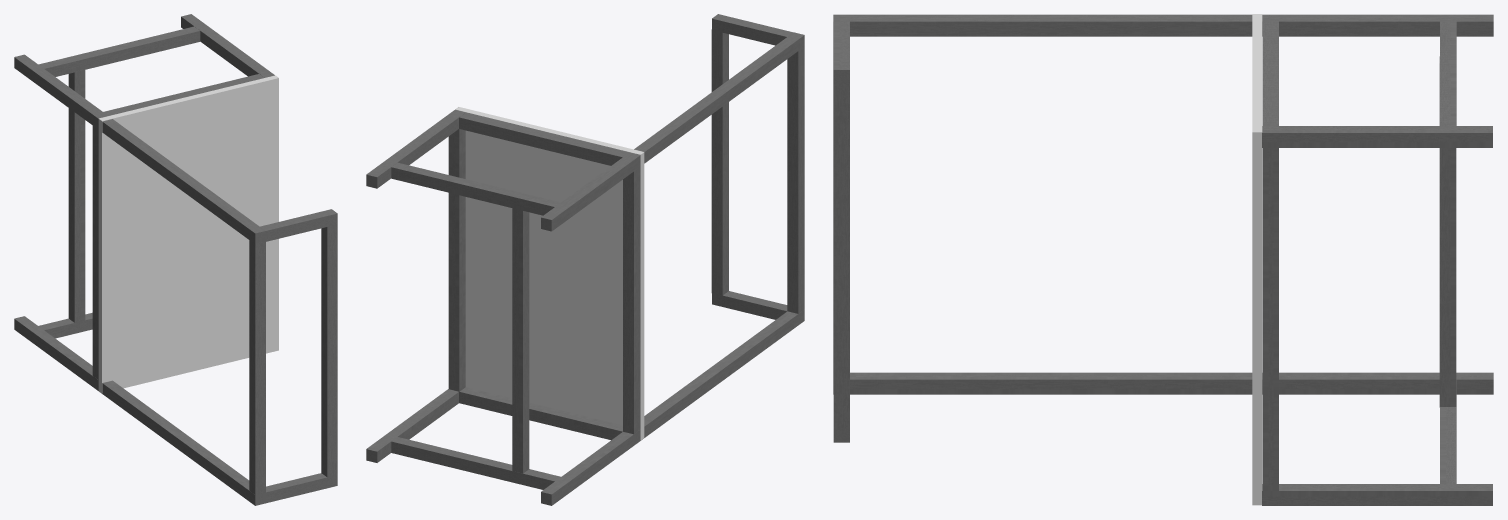
File: Handarbeitsplatz.obj
3 views of the same model, side by side, from view 1: azimuth 30°, elevation 25°; view 2: azimuth 150°, elevation 25°; view 3: azimuth 270°, elevation 25° (orthographic). The views are drawn at different scales.
Parts seen in each view (by area): view 1: TablePlate_Cube.001, 8mm_40X40EL_1_.003_8mm_40X40EL_1_, 8mm_40X40EL_1_.002_8mm_40X40EL_1_, 8mm_40X40EL_1_.011_8mm_40X40EL_1_, 8mm_40X40EL_1_.014_8mm_40X40EL_1_, 8mm_40X40EL_1_.010_8mm_40X40EL_1_, 8mm_40X40EL_1_.006_8mm_40X40EL_1_, 8mm_40X40EL_1_.009_8mm_40X40EL_1_, 8mm_40X40EL_1_.001_8mm_40X40EL_1_, 8mm_40X40EL_1_.012_8mm_40X40EL_1_, 8mm_40X40EL_1_.013_8mm_40X40EL_1_, 8mm_40X40EL_1_.007_8mm_40X40EL_1_ (+1 smaller); view 2: TablePlate_Cube.001, 8mm_40X40EL_1_.003_8mm_40X40EL_1_, 8mm_40X40EL_1_.002_8mm_40X40EL_1_, 8mm_40X40EL_1_.010_8mm_40X40EL_1_, 8mm_40X40EL_1_.009_8mm_40X40EL_1_, 8mm_40X40EL_1_.011_8mm_40X40EL_1_, 8mm_40X40EL_1_.008_8mm_40X40EL_1_, 8mm_40X40EL_1_.014_8mm_40X40EL_1_, 8mm_40X40EL_1_.007_8mm_40X40EL_1_, 8mm_40X40EL_1_.006_8mm_40X40EL_1_, 8mm_40X40EL_1_.004_8mm_40X40EL_1_, 8mm_40X40EL_1_.005_8mm_40X40EL_1_ (+4 smaller); view 3: 8mm_40X40EL_1_.003_8mm_40X40EL_1_, 8mm_40X40EL_1_.002_8mm_40X40EL_1_, 8mm_40X40EL_1_.014_8mm_40X40EL_1_, 8mm_40X40EL_1_.008_8mm_40X40EL_1_, TablePlate_Cube.001, 8mm_40X40EL_1_.001_8mm_40X40EL_1_, 8mm_40X40EL_1_, 8mm_40X40EL_1_.010_8mm_40X40EL_1_, 8mm_40X40EL_1_.006_8mm_40X40EL_1_, 8mm_40X40EL_1_.007_8mm_40X40EL_1_, 8mm_40X40EL_1_.004_8mm_40X40EL_1_, 8mm_40X40EL_1_.012_8mm_40X40EL_1_.
Part boxes in pixels (x1,y1,x2,y2): TablePlate_Cube.001: (98, 75, 278, 393); 8mm_40X40EL_1_.003_8mm_40X40EL_1_: (14, 54, 265, 243); 8mm_40X40EL_1_.002_8mm_40X40EL_1_: (14, 316, 265, 505); 8mm_40X40EL_1_.011_8mm_40X40EL_1_: (249, 240, 265, 495); 8mm_40X40EL_1_.014_8mm_40X40EL_1_: (321, 224, 337, 477); 8mm_40X40EL_1_.010_8mm_40X40EL_1_: (68, 69, 85, 322); 8mm_40X40EL_1_.006_8mm_40X40EL_1_: (38, 26, 200, 76); 8mm_40X40EL_1_.009_8mm_40X40EL_1_: (92, 126, 98, 379); 8mm_40X40EL_1_.001_8mm_40X40EL_1_: (181, 14, 274, 77); 8mm_40X40EL_1_.012_8mm_40X40EL_1_: (260, 209, 337, 241); 8mm_40X40EL_1_.013_8mm_40X40EL_1_: (265, 473, 337, 503); 8mm_40X40EL_1_.007_8mm_40X40EL_1_: (103, 74, 264, 115); TablePlate_Cube.001: (455, 107, 644, 440); 8mm_40X40EL_1_.003_8mm_40X40EL_1_: (541, 32, 804, 231); 8mm_40X40EL_1_.002_8mm_40X40EL_1_: (541, 309, 804, 505); 8mm_40X40EL_1_.010_8mm_40X40EL_1_: (512, 208, 529, 473); 8mm_40X40EL_1_.009_8mm_40X40EL_1_: (623, 167, 640, 434); 8mm_40X40EL_1_.011_8mm_40X40EL_1_: (787, 47, 804, 313); 8mm_40X40EL_1_.008_8mm_40X40EL_1_: (448, 129, 465, 391); 8mm_40X40EL_1_.014_8mm_40X40EL_1_: (711, 29, 728, 295); 8mm_40X40EL_1_.007_8mm_40X40EL_1_: (459, 113, 628, 165); 8mm_40X40EL_1_.006_8mm_40X40EL_1_: (391, 162, 560, 215); 8mm_40X40EL_1_.004_8mm_40X40EL_1_: (391, 437, 560, 489); 8mm_40X40EL_1_.005_8mm_40X40EL_1_: (459, 387, 622, 440); 8mm_40X40EL_1_.003_8mm_40X40EL_1_: (833, 14, 1493, 36); 8mm_40X40EL_1_.002_8mm_40X40EL_1_: (833, 372, 1493, 394); 8mm_40X40EL_1_.014_8mm_40X40EL_1_: (833, 84, 849, 428); 8mm_40X40EL_1_.008_8mm_40X40EL_1_: (1262, 148, 1278, 490); TablePlate_Cube.001: (1252, 14, 1262, 505); 8mm_40X40EL_1_.001_8mm_40X40EL_1_: (1262, 126, 1492, 147); 8mm_40X40EL_1_: (1262, 484, 1492, 505); 8mm_40X40EL_1_.010_8mm_40X40EL_1_: (1439, 56, 1456, 407); 8mm_40X40EL_1_.006_8mm_40X40EL_1_: (1440, 21, 1456, 125); 8mm_40X40EL_1_.007_8mm_40X40EL_1_: (1262, 21, 1278, 125); 8mm_40X40EL_1_.004_8mm_40X40EL_1_: (1440, 380, 1456, 483); 8mm_40X40EL_1_.012_8mm_40X40EL_1_: (833, 21, 849, 83).
Size of the model in its own units: 0.851 by 1.25 by 2.
Materials: 1 (1 with a texture image).
